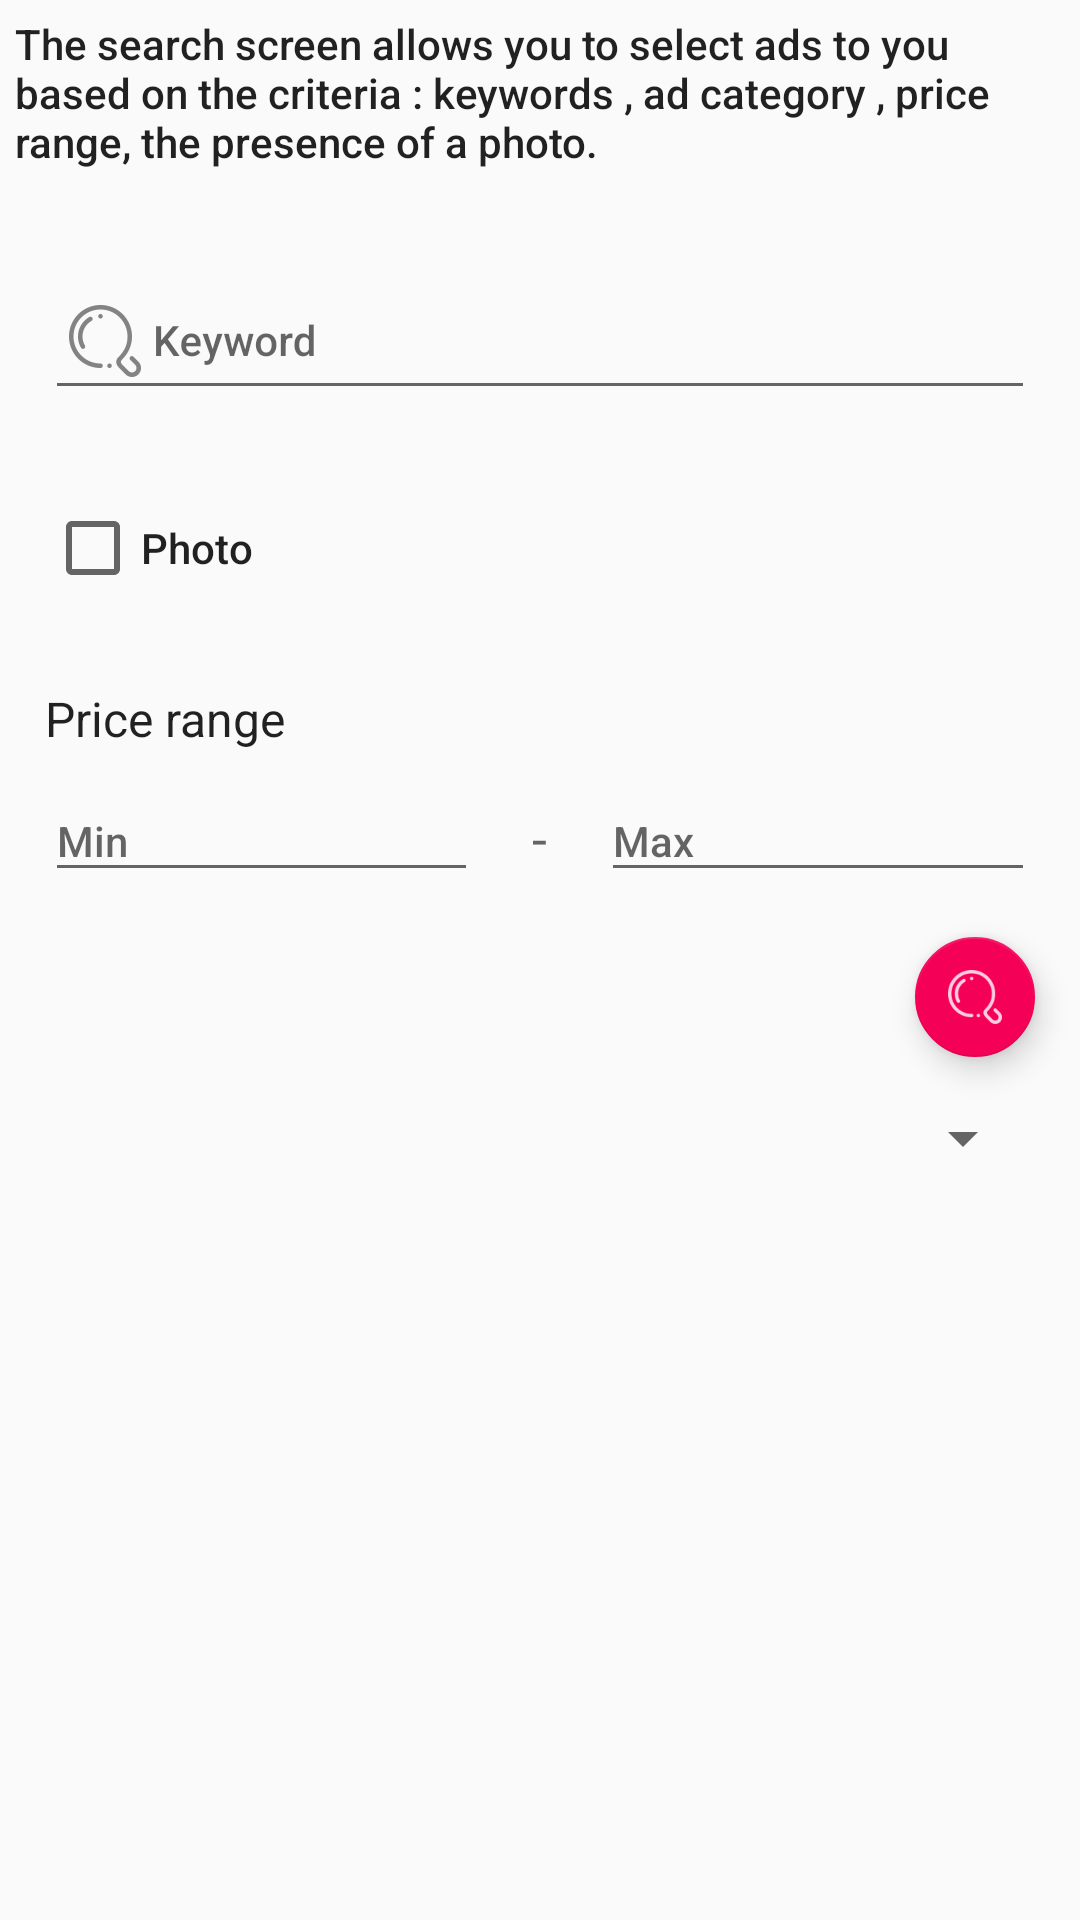

Named icons in this screenshot (1080px×1920px) and their bounding boxes, [x1=x1, y1=y1, x2=x2, y2=y2]:
search inverse: [x1=915, y1=937, x2=1035, y2=1057]
